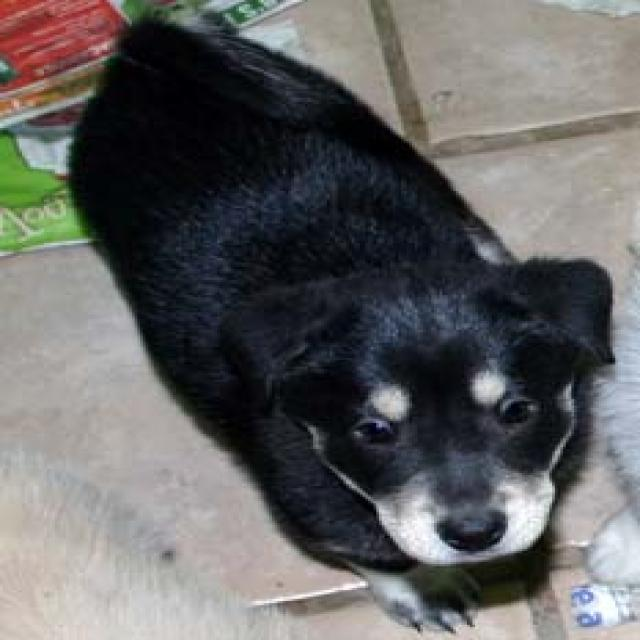Dogs: (60, 0, 632, 636)
